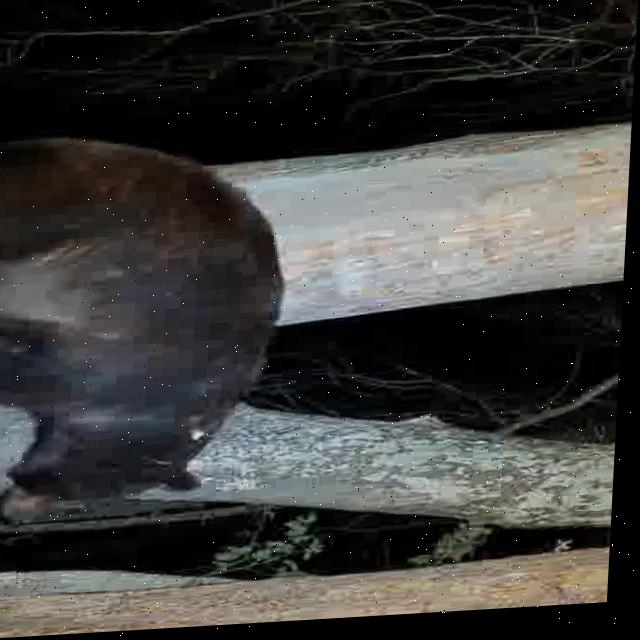bear face: (0, 122, 303, 527)
